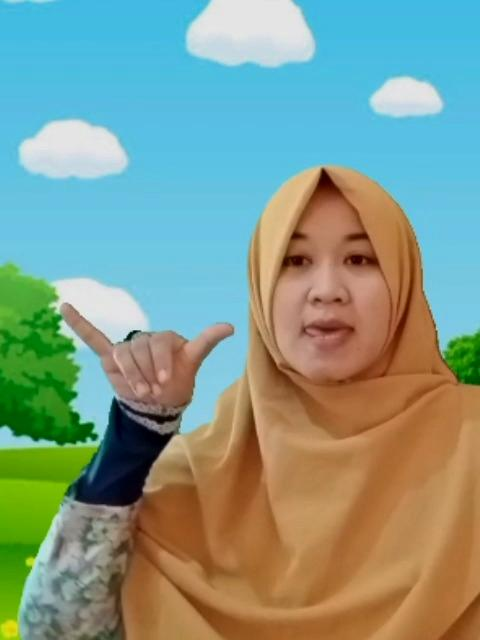Y: (59, 293, 240, 417)
